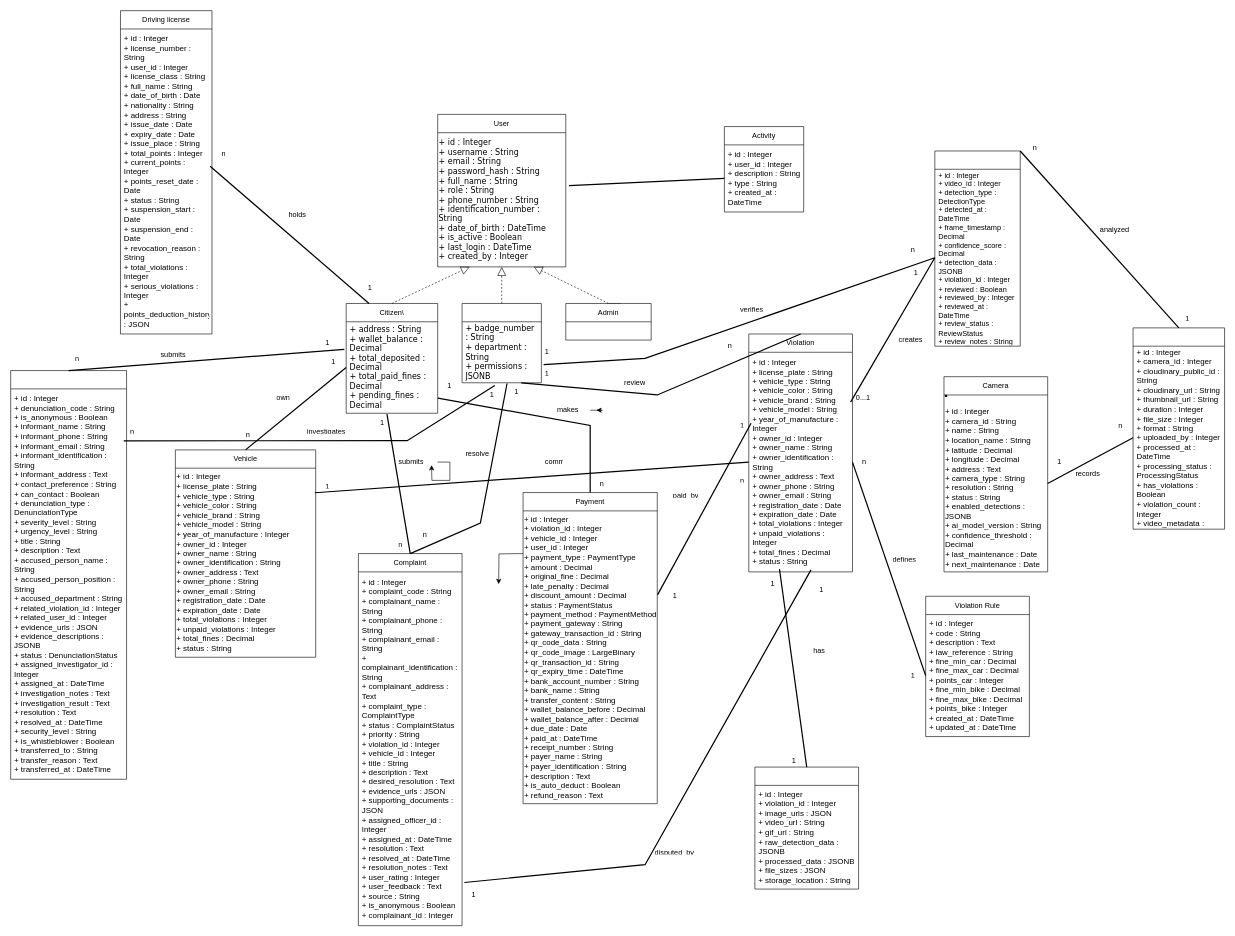
Image size: 1235x936. Some labels were removed from this diagram. Each missing label, with the box of its shape:
Ai Detection: (934, 150, 1020, 346)
Camera Video: (1132, 327, 1225, 529)
Denuciation: (10, 370, 127, 779)
Evidence: (754, 766, 859, 889)
Officer: (461, 303, 541, 383)
